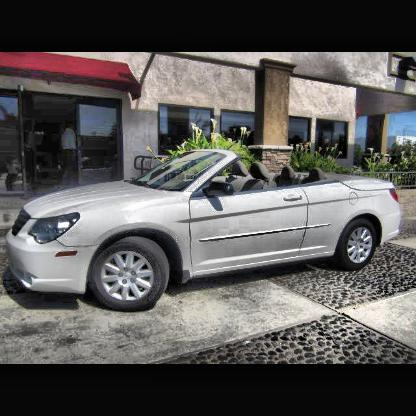Chrysler Sebring Convertible 2010: (8, 147, 407, 317)
